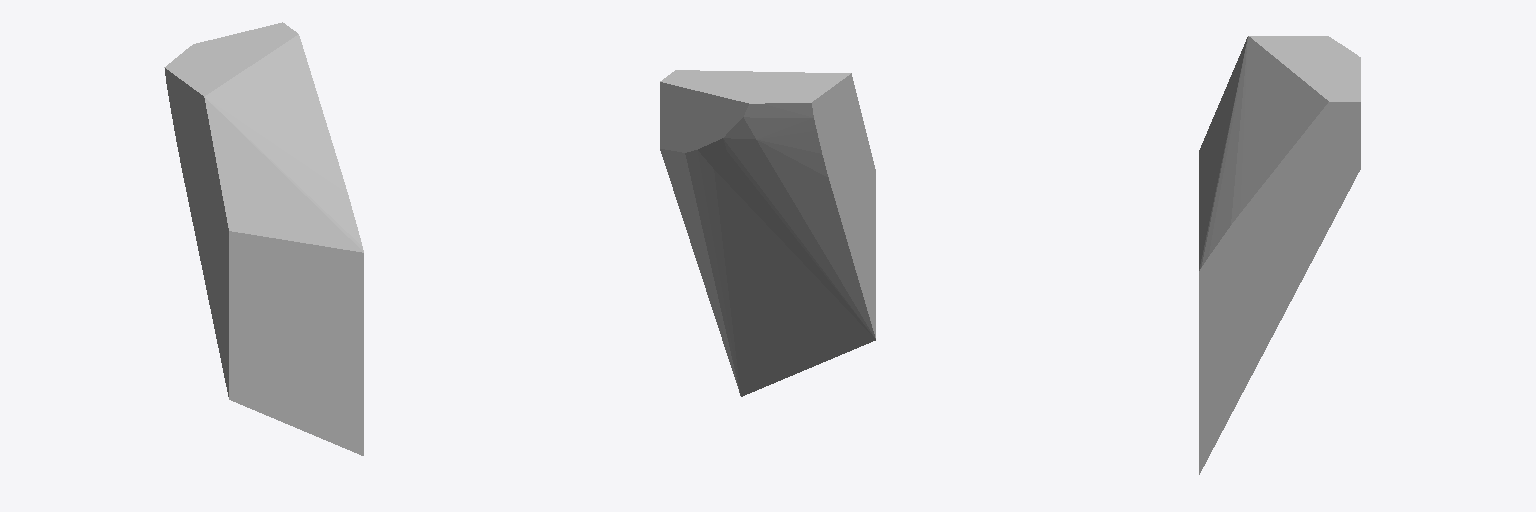
Rendered from phantom-elastrat_collision_203.obj.
3 renders of one model, left to right at view 1: azimuth 30°, elevation 25°; view 2: azimuth 150°, elevation 25°; view 3: azimuth 270°, elevation 25°, orthographic.
Size of the model in its own units: 0.0038 by 0.01 by 0.0039.